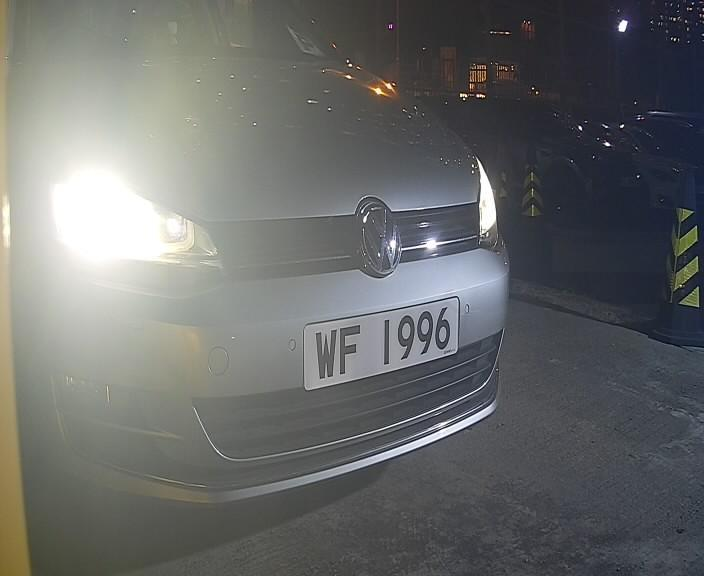privatecar: (16, 11, 519, 538)
